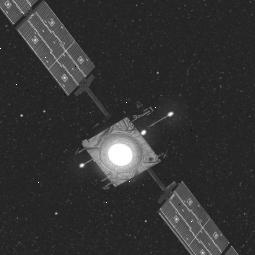smart_1: (52, 87, 198, 217)
